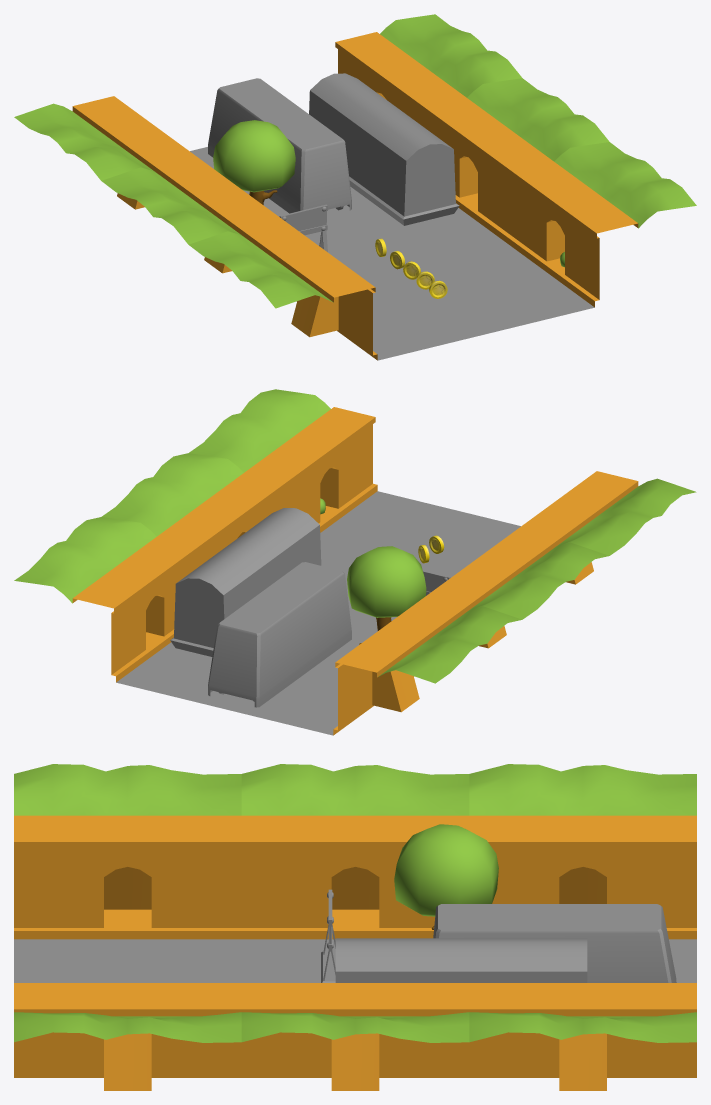
File: ENDLESS RUN.FBX
3 renders of one model, top to bottom at view 1: azimuth 30°, elevation 25°; view 2: azimuth 150°, elevation 25°; view 3: azimuth 270°, elevation 25°, orthographic. The views are drawn at different scales.
Parts seen in each view (by area): view 1: Plane003, Plane001, Plane002, Box004, Box003, Cylinder001, Box002; view 2: Plane002, Plane003, Plane001, Box003, Box004, Cylinder001; view 3: Plane003, Plane001, Plane002, Box003, Box004, Cylinder001, Box002.
Part boxes in pixels (x1,y1,x2,y2): Plane003: (188, 142, 696, 360); Plane001: (101, 78, 609, 278); Plane002: (14, 14, 521, 214); Box004: (309, 73, 459, 225); Box003: (208, 78, 351, 213); Cylinder001: (213, 120, 295, 204); Box002: (279, 204, 327, 252); Plane002: (14, 517, 521, 735); Plane003: (189, 389, 696, 584); Plane001: (101, 453, 608, 653); Box003: (208, 562, 351, 707); Box004: (170, 508, 321, 656); Cylinder001: (347, 546, 426, 644); Plane003: (14, 764, 241, 1090); Plane001: (241, 764, 469, 1090); Plane002: (469, 764, 696, 1090); Box003: (433, 904, 676, 982); Box004: (335, 938, 587, 982); Cylinder001: (394, 824, 498, 929); Box002: (321, 889, 335, 982).
Bounding box in the file's own units: 501 × 118 × 539.
